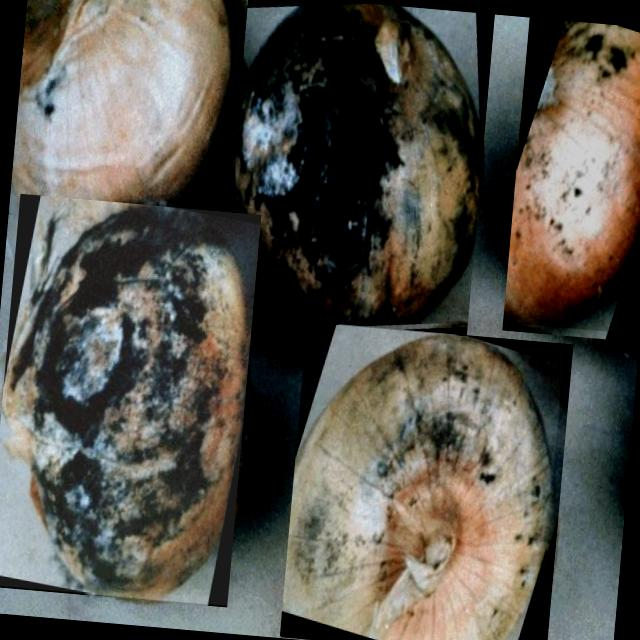mould: (1, 207, 249, 599), (282, 336, 552, 640), (234, 4, 481, 329), (503, 20, 640, 325)
